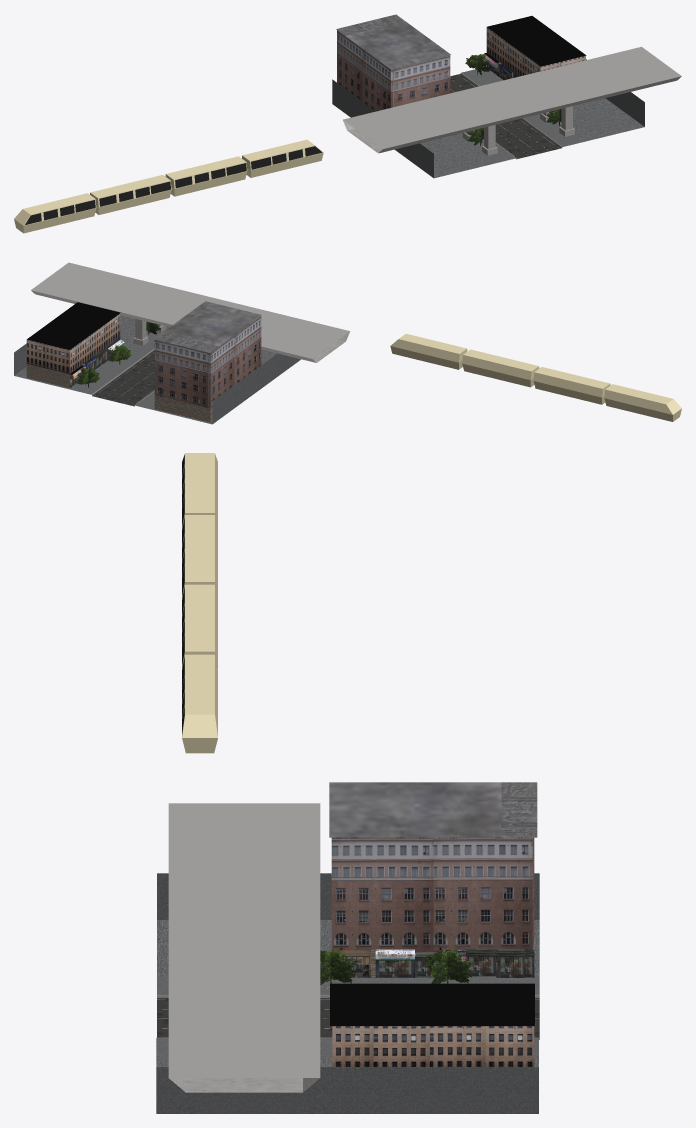
The model's file is Environment_MetroRail.fbx.
3 renders of one model, top to bottom at view 1: azimuth 30°, elevation 25°; view 2: azimuth 150°, elevation 25°; view 3: azimuth 270°, elevation 25°, orthographic. The views are drawn at different scales.
Parts seen in each view (by area): view 1: MetroRail, Building_4_mesh, Train, Building_3_Mesh, Side Walk L.001, Side Walk L, Road, Side Walk L.003, Side Walk L.002, Side Walk L.006, Road.001, Side Walk L.007 (+1 smaller); view 2: Building_4_mesh, MetroRail, Train, Building_3_Mesh, Road.003, Side Walk L.006, Side Walk L.007, Road.002, Side Walk L.004, Side Walk L.002, Side Walk L.003, Side Walk L.005 (+4 smaller); view 3: MetroRail, Building_4_mesh, Building_3_Mesh, Train, Side Walk L.007, Side Walk L.005, Side Walk L.003, Side Walk L.001, Side Walk L, Side Walk L.006, TreeSmall_tree3_0.002, Side Walk L.002 (+1 smaller).
Part boxes in pixels (x1,y1,x2,y2): MetroRail: [343, 46, 681, 155]; Building_4_mesh: [336, 14, 450, 111]; Train: [14, 139, 323, 233]; Building_3_Mesh: [484, 16, 586, 80]; Side Walk L.001: [536, 92, 644, 147]; Side Walk L: [408, 141, 516, 178]; Road: [495, 129, 561, 158]; Side Walk L.003: [522, 94, 619, 129]; Side Walk L.002: [395, 133, 483, 159]; Side Walk L.006: [332, 79, 357, 117]; Road.001: [495, 118, 535, 139]; Side Walk L.007: [460, 58, 538, 86]; Building_4_mesh: [154, 301, 261, 422]; MetroRail: [31, 262, 350, 362]; Train: [390, 333, 681, 421]; Building_3_Mesh: [26, 302, 124, 388]; Road.003: [92, 378, 154, 406]; Side Walk L.006: [134, 384, 236, 424]; Side Walk L.007: [14, 343, 115, 395]; Road.002: [116, 361, 154, 387]; Side Walk L.004: [236, 366, 260, 406]; Side Walk L.002: [260, 353, 284, 388]; Side Walk L.003: [79, 332, 154, 360]; Side Walk L.005: [66, 346, 139, 377]; MetroRail: [168, 803, 320, 1092]; Building_4_mesh: [329, 782, 537, 977]; Building_3_Mesh: [330, 983, 534, 1066]; Train: [182, 453, 217, 753]; Side Walk L.007: [443, 1037, 538, 1113]; Side Walk L.005: [347, 1067, 443, 1113]; Side Walk L.003: [252, 1037, 347, 1113]; Side Walk L.001: [156, 1037, 251, 1113]; Side Walk L: [157, 873, 168, 997]; Side Walk L.006: [444, 873, 539, 997]; TreeSmall_tree3_0.002: [425, 948, 472, 983]; Side Walk L.002: [320, 873, 348, 997].
Size of the model in its own units: 17778 by 1964 by 4787.
Materials: 6 (6 with a texture image).
